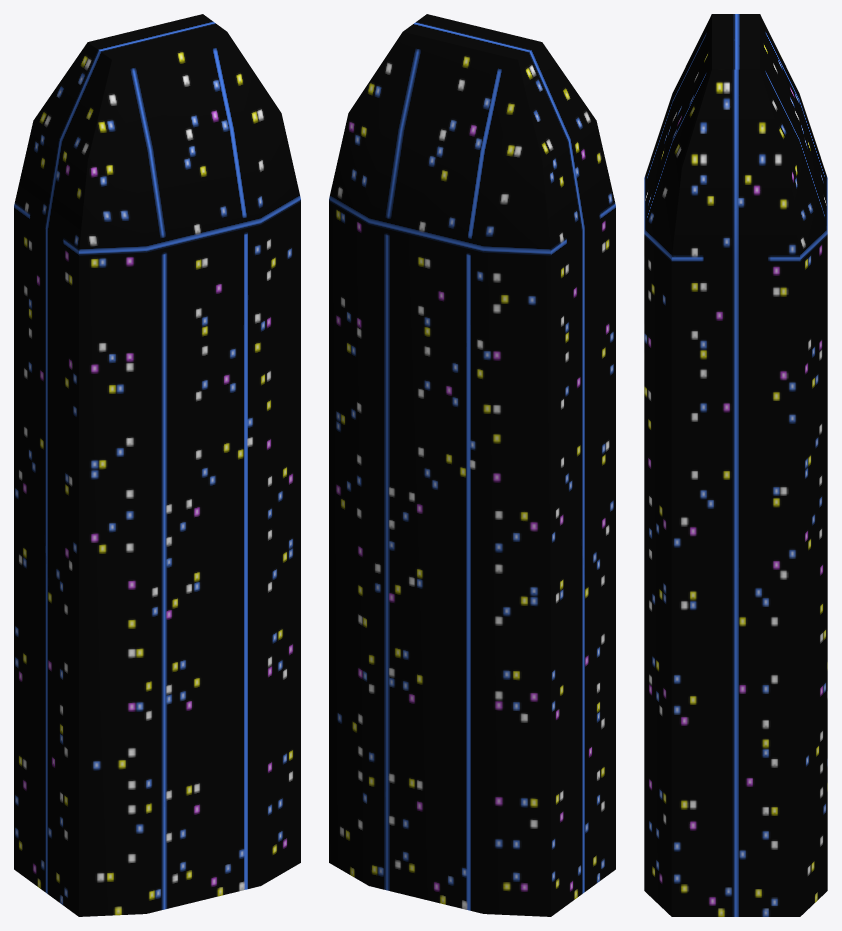
Rendered from bldg_014.fbx.
3 views of the same model, side by side, from view 1: azimuth 30°, elevation 25°; view 2: azimuth 150°, elevation 25°; view 3: azimuth 270°, elevation 25° (orthographic).
Parts seen in each view (by area): view 1: bldg_014; view 2: bldg_014; view 3: bldg_014.
Part boxes in pixels (x1,y1,x2,y2): bldg_014: (14,14,300,916); bldg_014: (329,14,615,916); bldg_014: (644,14,827,916).
Size of the model in its own units: 291 by 1038 by 210.
1 material, 1 textured.
